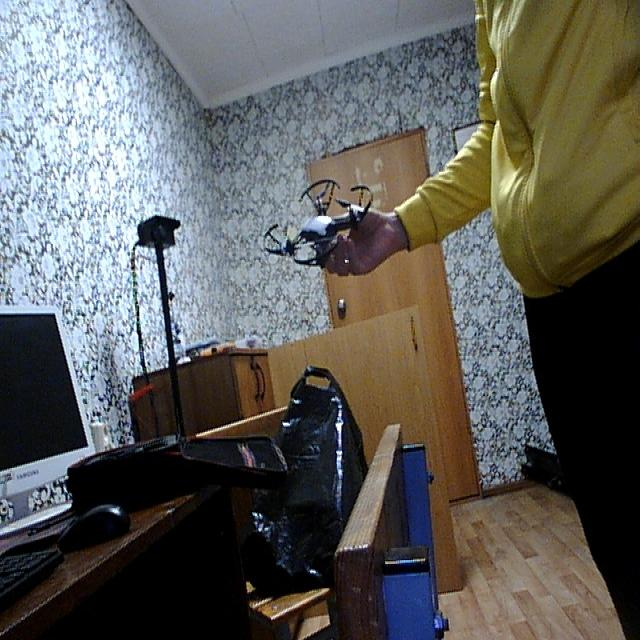drone: (261, 175, 378, 283)
